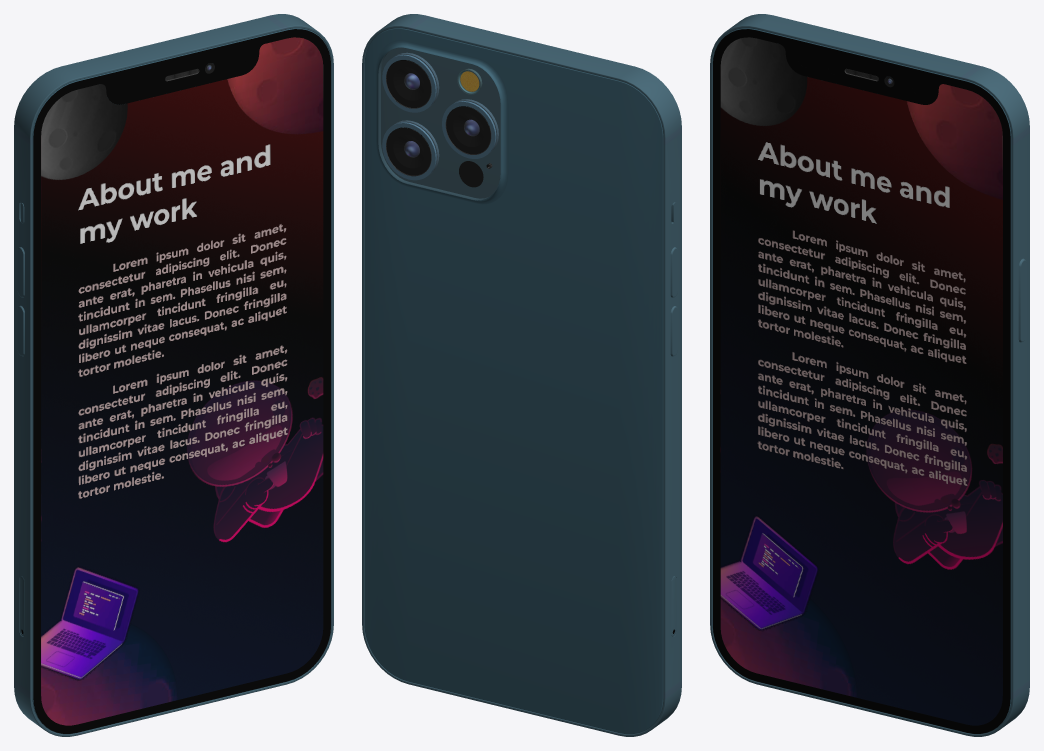
The model's file is phone12.glb.
3 views of the same model, side by side, from view 1: azimuth 30°, elevation 25°; view 2: azimuth 150°, elevation 25°; view 3: azimuth 330°, elevation 25° (orthographic).
Visible parts, largest first — view 1: Screen, iPhone 12 Pro, Bezel, iPhone12 Pro, VolumeButton; view 2: iPhone12 Pro, iPhone 12 Pro, CameraModule.001, Camera2, Camera1, Camera3, VolumeButton; view 3: Screen, iPhone 12 Pro, Bezel, iPhone12 Pro, PowerButton.
Part boxes in pixels (bbox=[...]): Screen: bbox=[41, 37, 323, 725]; iPhone 12 Pro: bbox=[14, 14, 333, 736]; Bezel: bbox=[33, 29, 330, 733]; iPhone12 Pro: bbox=[32, 28, 331, 734]; VolumeButton: bbox=[17, 247, 24, 356]; iPhone12 Pro: bbox=[364, 28, 663, 734]; iPhone 12 Pro: bbox=[362, 14, 681, 736]; CameraModule.001: bbox=[378, 48, 500, 199]; Camera2: bbox=[382, 120, 439, 180]; Camera1: bbox=[382, 52, 439, 112]; Camera3: bbox=[442, 99, 498, 158]; VolumeButton: bbox=[670, 247, 677, 356]; Screen: bbox=[720, 37, 1002, 725]; iPhone 12 Pro: bbox=[710, 14, 1029, 736]; Bezel: bbox=[713, 29, 1010, 733]; iPhone12 Pro: bbox=[712, 28, 1011, 734]; PowerButton: bbox=[1018, 258, 1026, 342].
Bounding box in the file's own units: 48.13 × 98.5 × 5.56.
17 materials, 4 textured.
